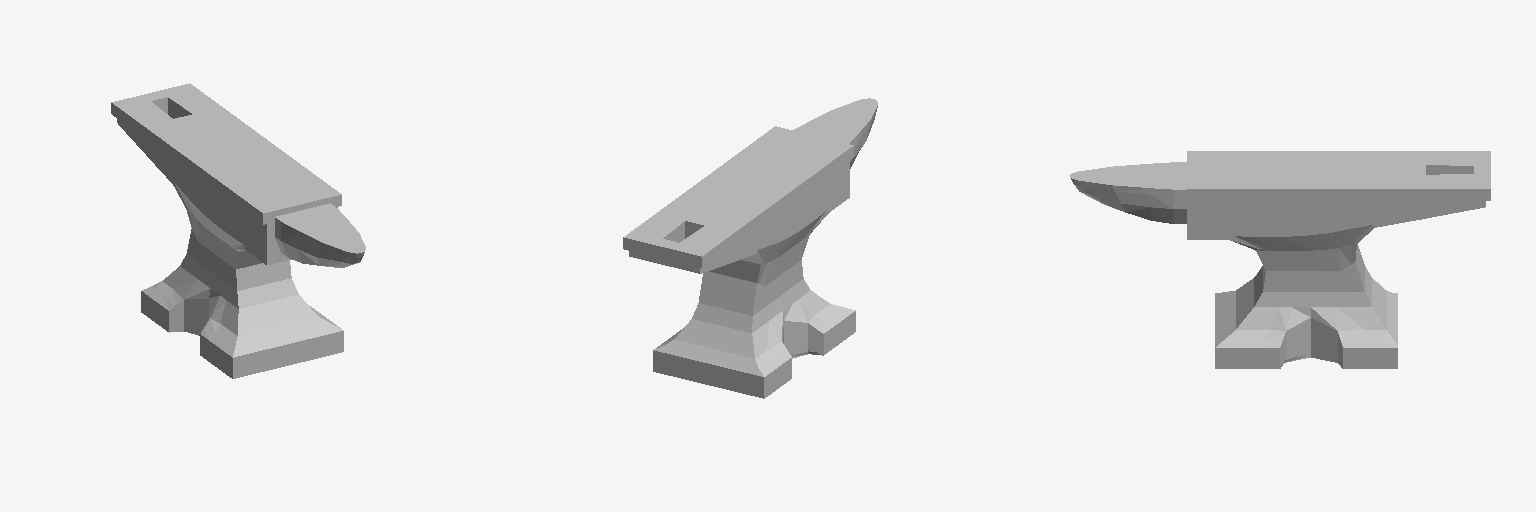
The model's file is Anvil.obj.
3 views of the same model, side by side, from view 1: azimuth 30°, elevation 25°; view 2: azimuth 150°, elevation 25°; view 3: azimuth 270°, elevation 25° (orthographic).
Parts seen in each view (by area): view 1: body_Mesh.001, nose_Mesh; view 2: body_Mesh.001, nose_Mesh; view 3: body_Mesh.001, nose_Mesh.
Part boxes in pixels (x1,y1,x2,y2): body_Mesh.001: (111,83,343,378); nose_Mesh: (275,203,365,267); body_Mesh.001: (623,126,855,398); nose_Mesh: (793,98,877,168); body_Mesh.001: (1187,151,1490,368); nose_Mesh: (1070,162,1186,223).
Size of the model in its own units: 0.2476 by 0.366 by 0.812.